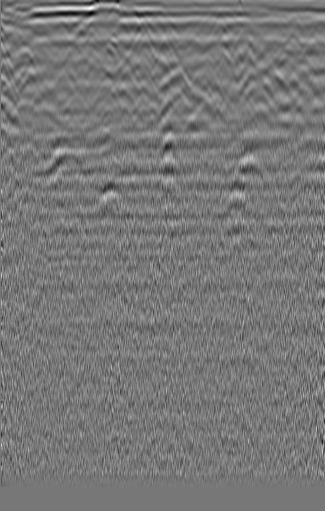가스: (92, 176, 129, 206)
상수: (6, 42, 38, 71)
오수: (282, 55, 318, 88)
우수: (158, 19, 183, 60)
